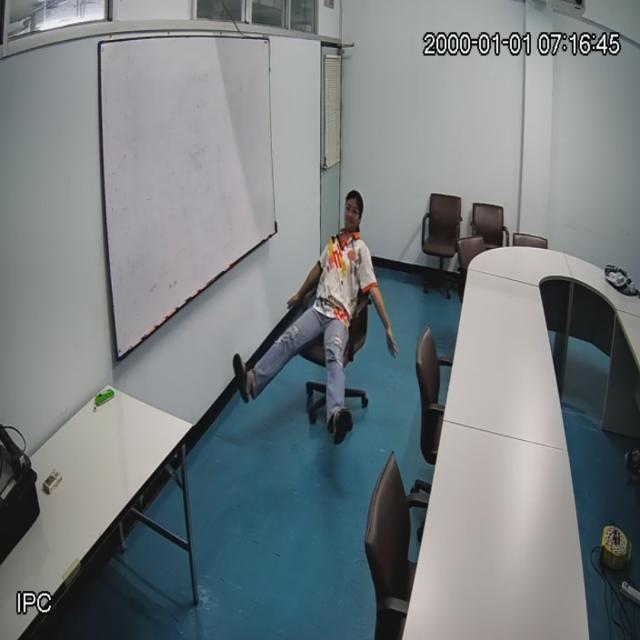normal: (295, 186, 372, 417)
